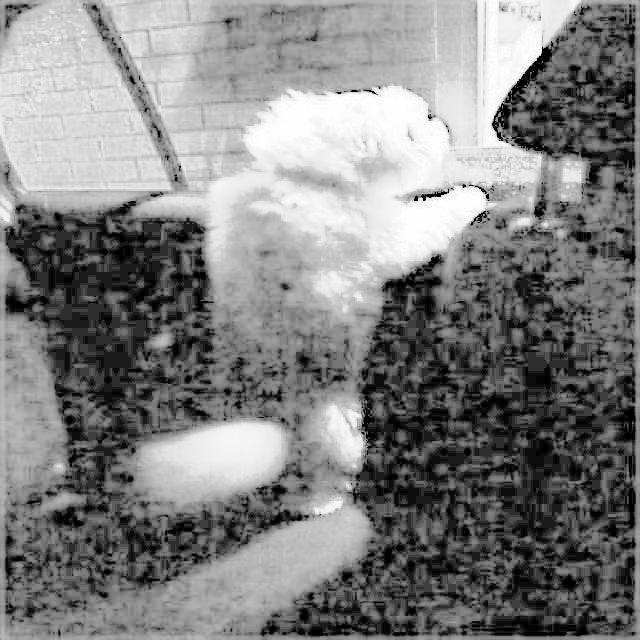Dog: (122, 73, 501, 544)
